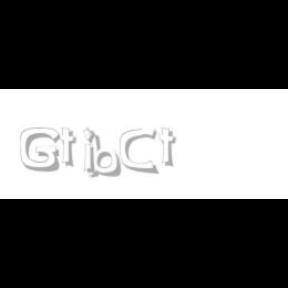C: (120, 128, 156, 174)
G: (20, 128, 60, 172)
b: (86, 128, 124, 178)
i: (83, 128, 99, 176)
t: (59, 128, 81, 168), (158, 128, 180, 168)
